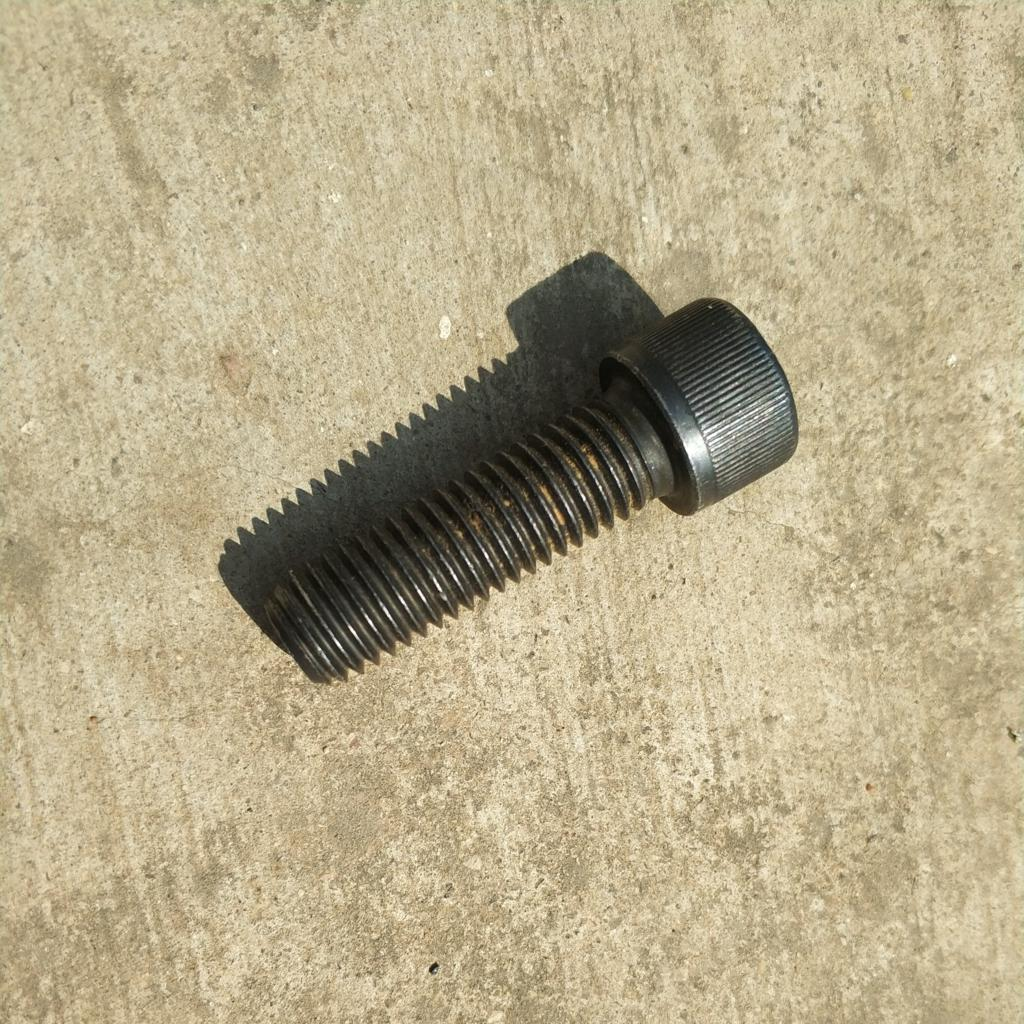screwtype1black: (254, 293, 805, 692)
